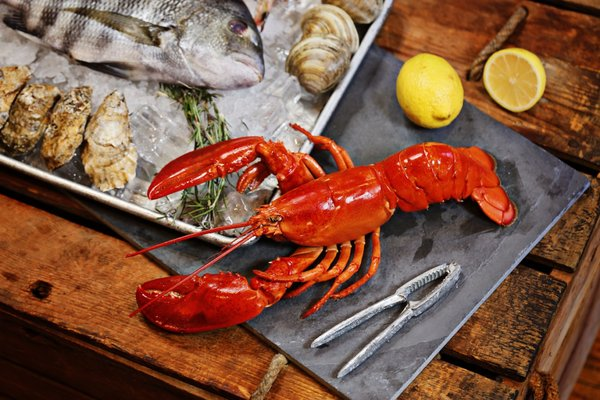sandwich: (307, 261, 462, 373)
taco: (483, 46, 546, 113)
